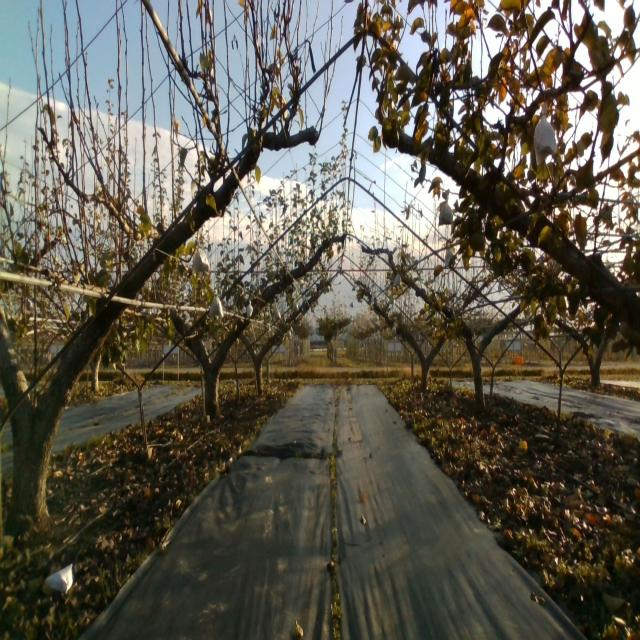pearbags: (533, 102, 557, 166), (192, 246, 210, 274), (437, 197, 453, 226), (208, 289, 224, 318), (444, 249, 456, 267)
